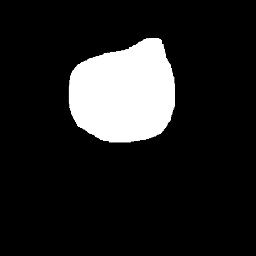mass: (68, 41, 175, 109)
